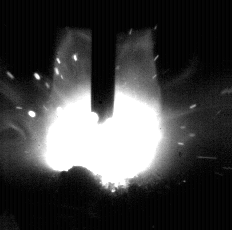arame: (91, 0, 116, 123)
poca: (46, 0, 160, 230)
